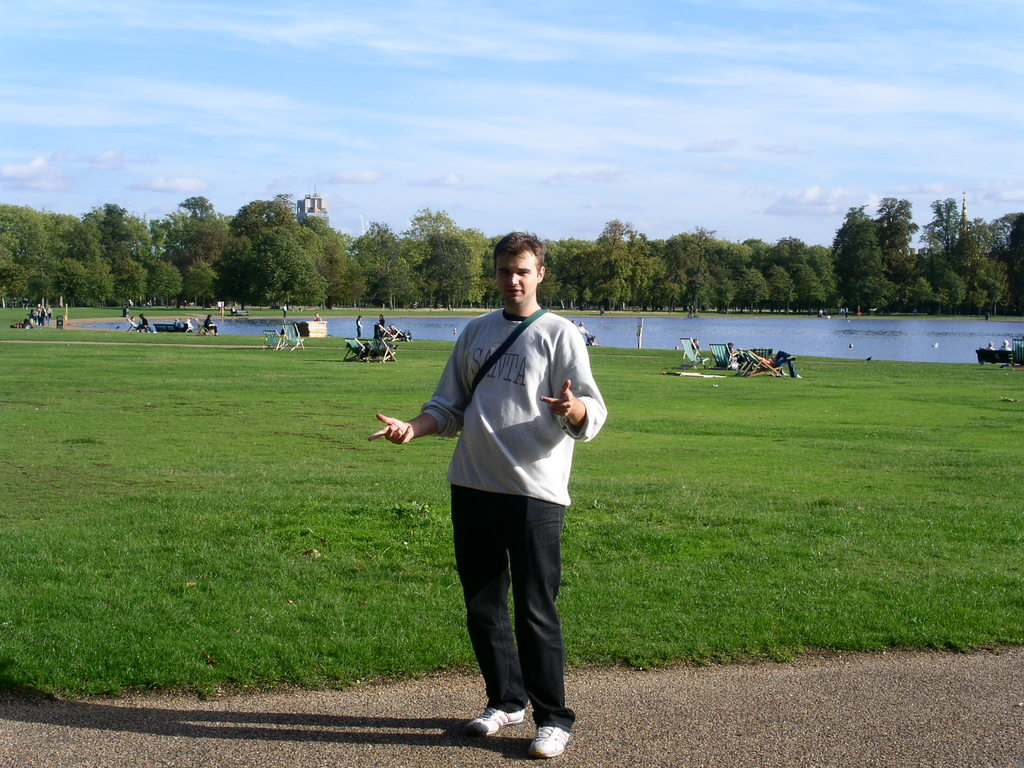Tree: (0, 193, 1023, 317)
